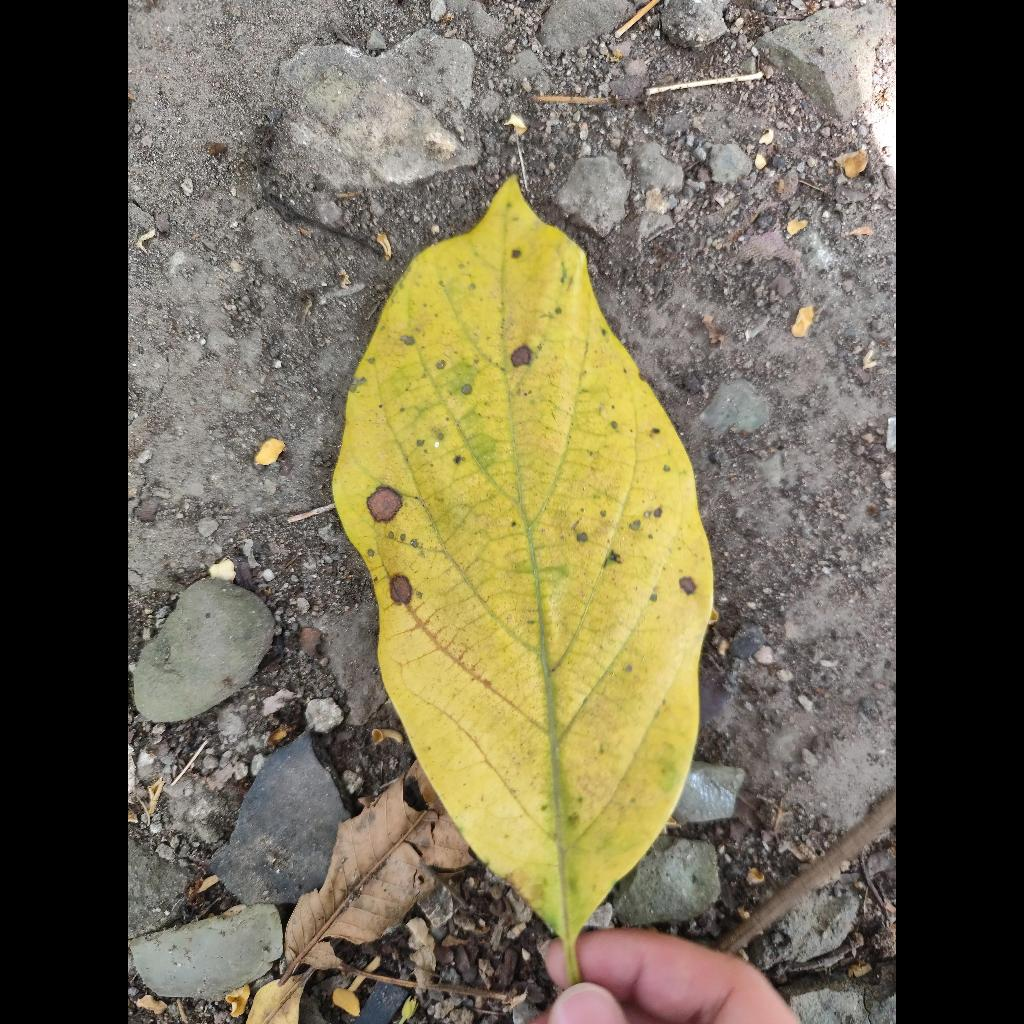nutrient_deficiency: (334, 178, 713, 945)
